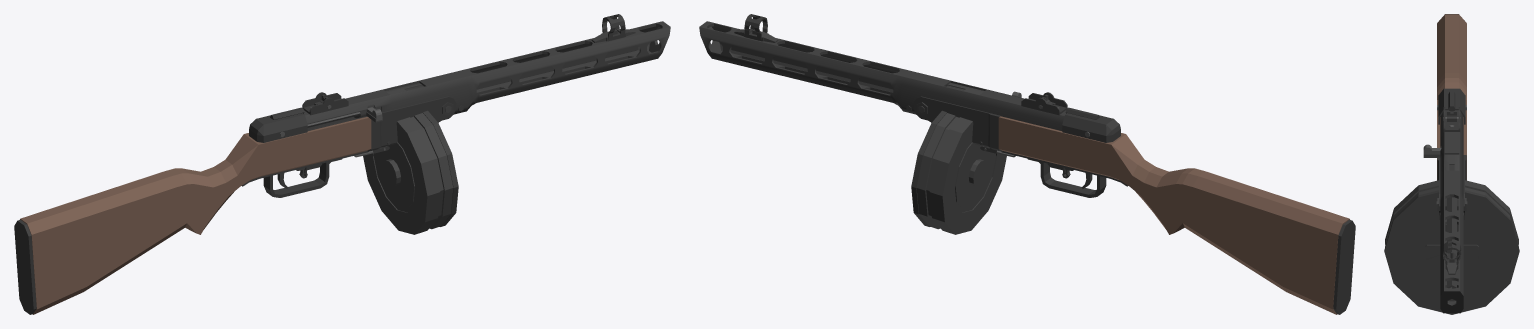
Rendered from ppsh41.glb.
3 renders of one model, left to right at view 1: azimuth 30°, elevation 25°; view 2: azimuth 150°, elevation 25°; view 3: azimuth 270°, elevation 25°, orthographic.
Visible parts, largest first — view 1: Cube, Cube.012, Cylinder, Cube.002, Cube.001, Cube.022, Cube.007, Cylinder.011, Cylinder.001, Cube.014, Cube.020; view 2: Cube, Cube.012, Cylinder, Cube.002, Cube.001, Cube.022, Cube.007, Cylinder.011, Cylinder.001, Cube.014, Cube.020; view 3: Cylinder.001, Cube.012, Cube, Cylinder, Cube.022, Cube.013, Cylinder.011, Cube.002, Cube.014, Cube.020, Cube.024, Cylinder.014 (+2 smaller).
Boxes of the visible parts, left/top/right/bottom form: Cube: left=20, top=116, right=371, bottom=314; Cube.012: left=304, top=21, right=670, bottom=130; Cylinder: left=363, top=113, right=453, bottom=234; Cube.002: left=367, top=96, right=456, bottom=151; Cube.001: left=14, top=219, right=36, bottom=314; Cube.022: left=249, top=113, right=307, bottom=142; Cube.007: left=263, top=159, right=341, bottom=197; Cylinder.011: left=476, top=45, right=638, bottom=89; Cylinder.001: left=423, top=110, right=458, bottom=226; Cube.014: left=302, top=92, right=348, bottom=115; Cube.020: left=602, top=14, right=625, bottom=40; Cube: left=998, top=116, right=1349, bottom=314; Cube.012: left=699, top=21, right=1065, bottom=130; Cylinder: left=916, top=113, right=1006, bottom=234; Cube.002: left=913, top=96, right=1002, bottom=151; Cube.001: left=1333, top=219, right=1355, bottom=314; Cube.022: left=1062, top=113, right=1120, bottom=142; Cube.007: left=1028, top=159, right=1106, bottom=197; Cylinder.011: left=731, top=45, right=893, bottom=89; Cylinder.001: left=911, top=110, right=946, bottom=226; Cube.014: left=1021, top=92, right=1067, bottom=115; Cube.020: left=744, top=14, right=767, bottom=40; Cylinder.001: left=1384, top=190, right=1519, bottom=314; Cube.012: left=1440, top=110, right=1463, bottom=313; Cube: left=1437, top=14, right=1466, bottom=180; Cylinder: left=1385, top=180, right=1518, bottom=246; Cube.022: left=1438, top=88, right=1465, bottom=124; Cube.013: left=1425, top=244, right=1478, bottom=260; Cylinder.011: left=1447, top=197, right=1456, bottom=288; Cube.002: left=1437, top=155, right=1466, bottom=219; Cube.014: left=1443, top=107, right=1460, bottom=131; Cube.020: left=1442, top=241, right=1461, bottom=268; Cube.024: left=1444, top=154, right=1459, bottom=170; Cylinder.014: left=1448, top=91, right=1455, bottom=111.
Bounding box in the file's own units: 0.8704 × 0.2081 × 0.1558.
